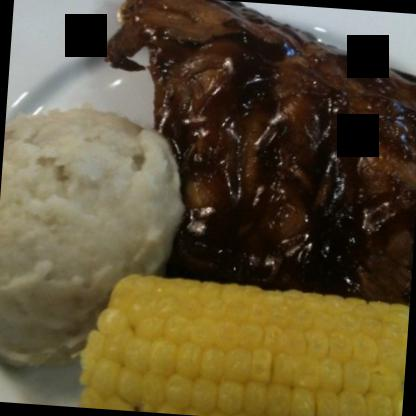corn: (71, 269, 410, 415)
